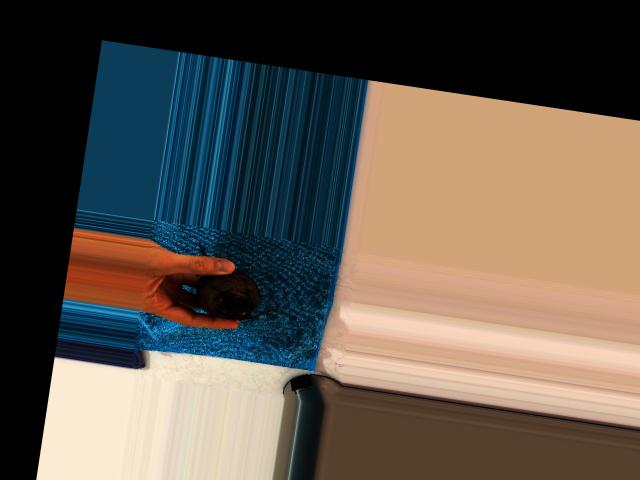beet: (189, 242, 286, 325)
